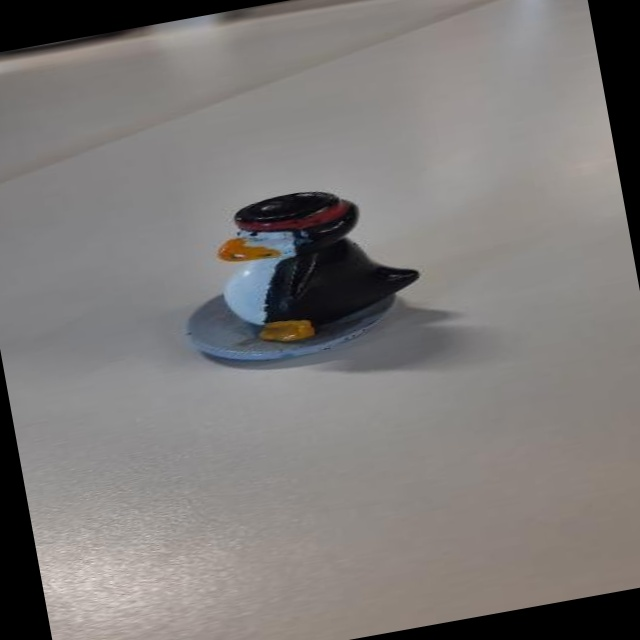Penguin: (141, 146, 452, 393)
